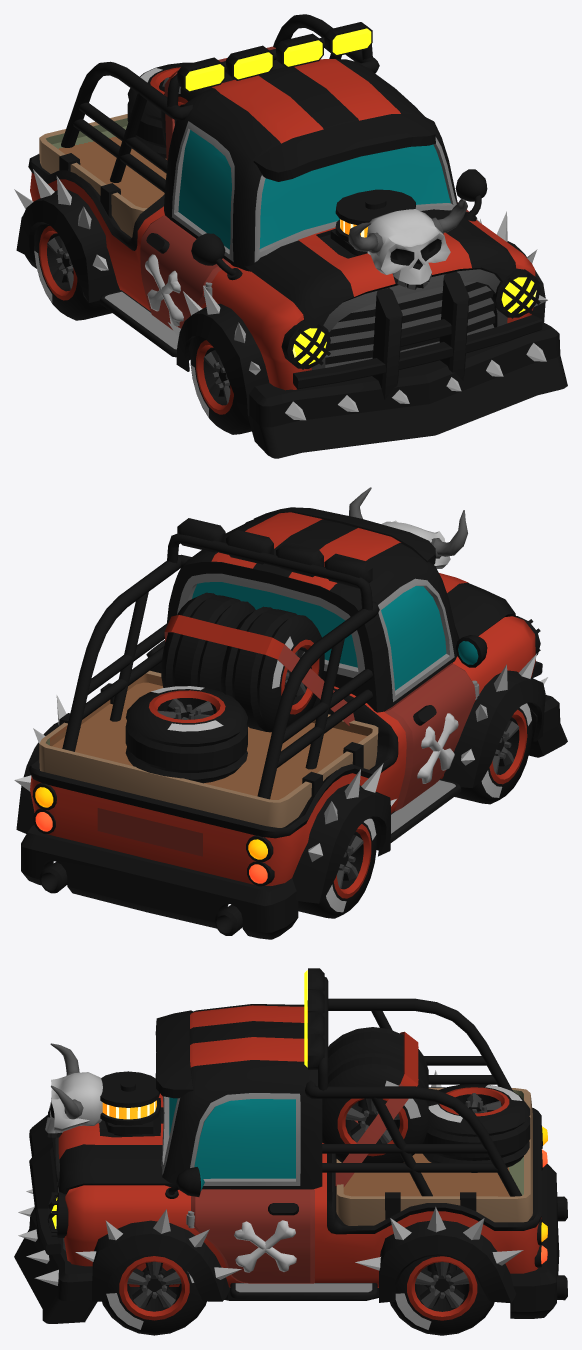
The model's file is SVehicle009.fbx.
3 views of the same model, one above another, from view 1: azimuth 30°, elevation 25°; view 2: azimuth 150°, elevation 25°; view 3: azimuth 270°, elevation 25° (orthographic). The views are drawn at different scales.
Visible parts, largest first — view 1: SVehicle009, SV009_BR, SV009_FR, SV009_EXTRA; view 2: SVehicle009, SV009_EXTRA, SV009_BR, SV009_FR; view 3: SVehicle009, SV009_FL, SV009_EXTRA, SV009_BL.
Part boxes in pixels (bbox=[...]): SVehicle009: bbox=[14, 14, 567, 458]; SV009_BR: bbox=[34, 224, 111, 320]; SV009_FR: bbox=[190, 336, 251, 434]; SV009_EXTRA: bbox=[127, 62, 192, 158]; SVehicle009: bbox=[14, 487, 567, 939]; SV009_EXTRA: bbox=[125, 686, 247, 783]; SV009_BR: bbox=[298, 818, 376, 918]; SV009_FR: bbox=[454, 703, 532, 804]; SVehicle009: bbox=[14, 968, 567, 1323]; SV009_FL: bbox=[102, 1254, 206, 1335]; SV009_EXTRA: bbox=[422, 1084, 530, 1172]; SV009_BL: bbox=[390, 1255, 494, 1335].
Size of the model in its own units: 268 by 234 by 441.
1 material, 1 textured.
